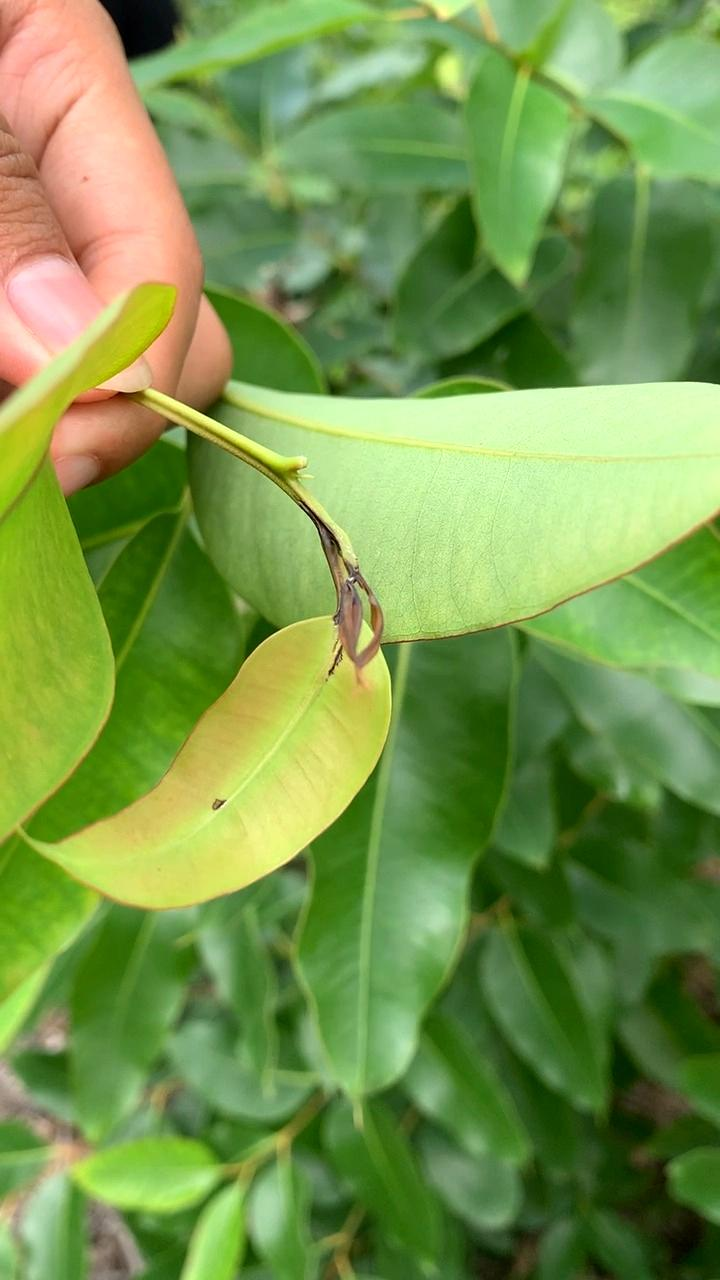Helopeltis-Withered Sprout: (281, 506, 419, 709)
